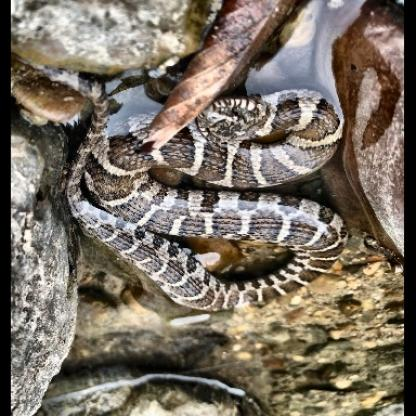Snake: (23, 22, 396, 401)
